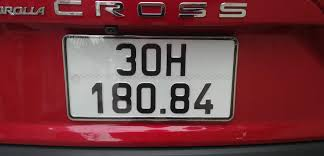number-plate: (65, 35, 233, 118)
